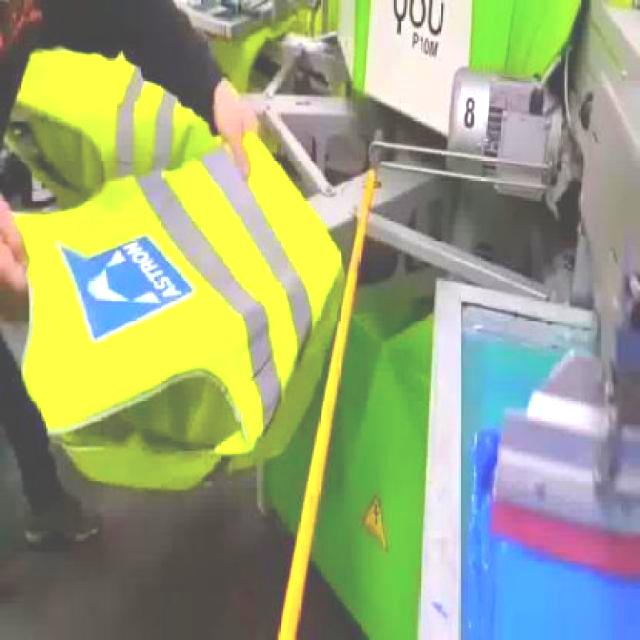Mask: (3, 132, 349, 494), (8, 44, 242, 204)
